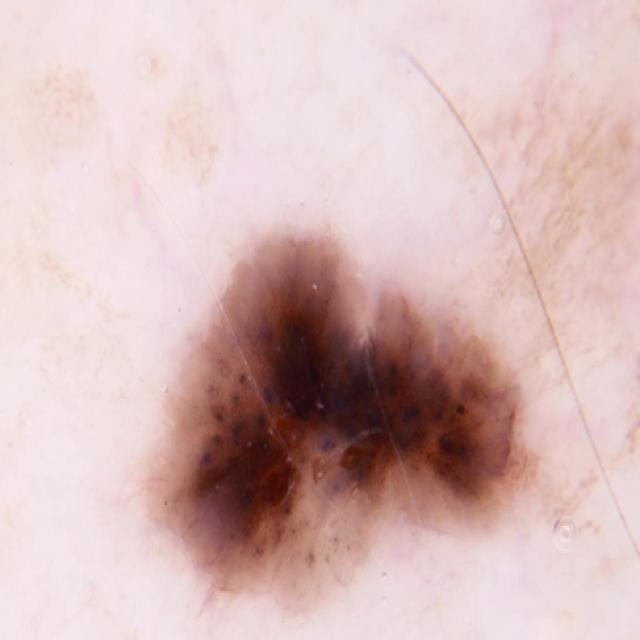Keratosis: (110, 167, 573, 640)
